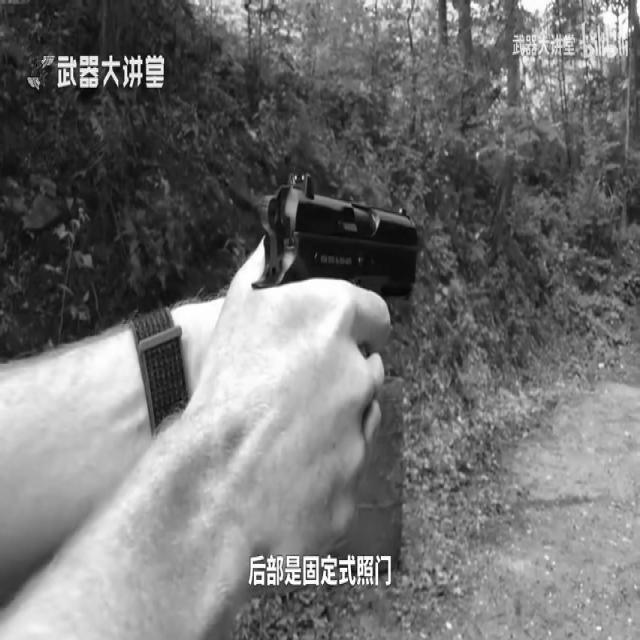Hand-Gun: (232, 108, 460, 493)
